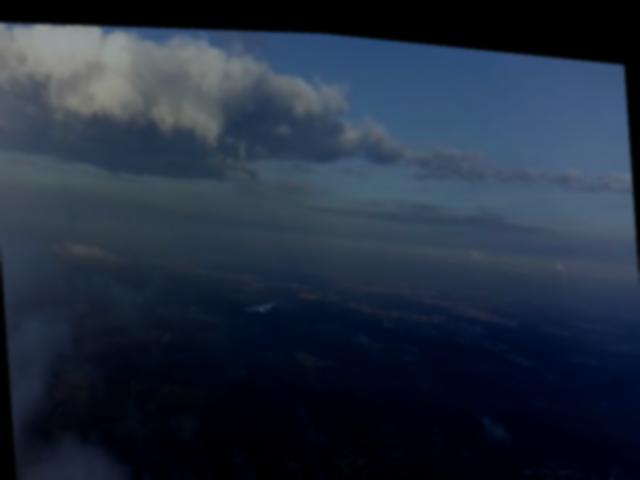uav: (240, 285, 276, 313)
